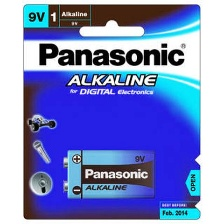battery: (60, 145, 158, 200)
book: (15, 0, 205, 221)
